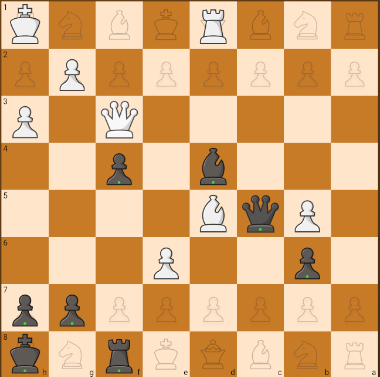bb: (196, 144, 231, 188)
bk: (4, 333, 49, 375)
bp: (99, 148, 138, 187), (54, 292, 91, 331), (290, 248, 327, 282), (8, 289, 40, 327)
bq: (239, 191, 281, 234)
br: (101, 334, 137, 375)
wb: (193, 194, 232, 234)
wk: (3, 1, 44, 49)
wp: (3, 99, 46, 141), (53, 51, 92, 95), (290, 195, 325, 234), (150, 245, 182, 280)
wq: (98, 99, 141, 141)
wr: (196, 2, 231, 47)
